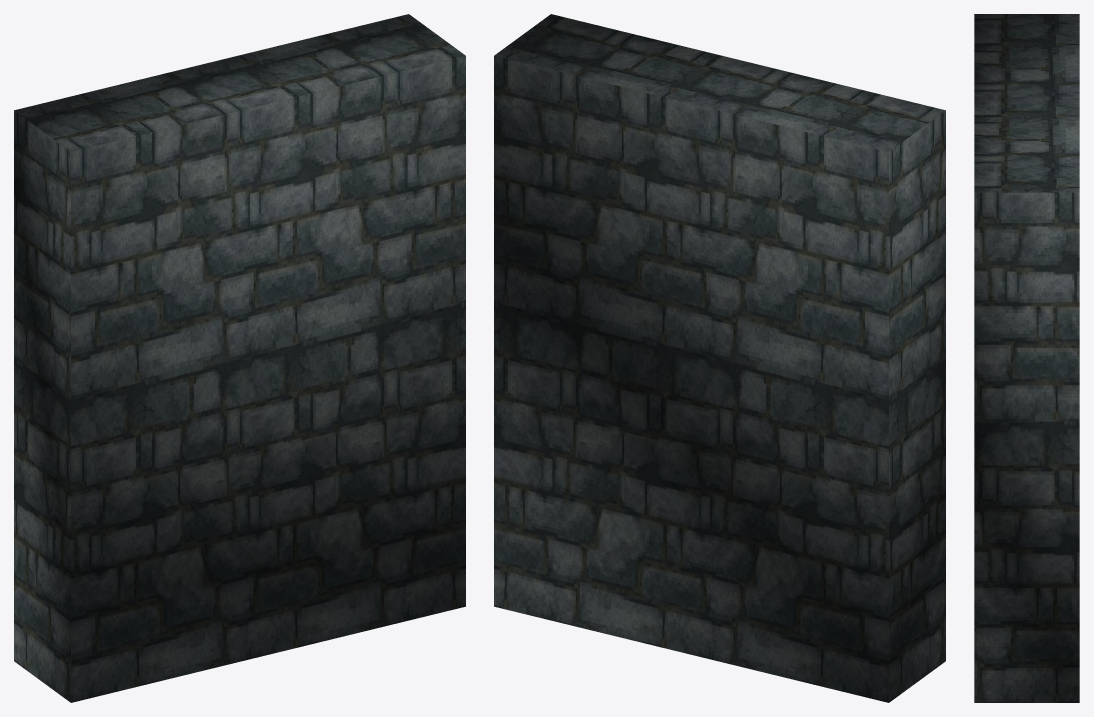
File: dark stone small wall.glb
The picture shows the model from 3 angles, left to right: view 1: azimuth 30°, elevation 25°; view 2: azimuth 150°, elevation 25°; view 3: azimuth 270°, elevation 25°; orthographic projection. The views are drawn at different scales.
Parts seen in each view (by area): view 1: Wall.004; view 2: Wall.004; view 3: Wall.004.
Part boxes in pixels (box(x1,y1,x2,y2)): Wall.004: box(14, 14, 465, 702); Wall.004: box(494, 14, 945, 702); Wall.004: box(974, 14, 1079, 702).
Bounding box in the file's own units: 1.83 × 2.44 × 0.4572.
Materials: 1 (1 with a texture image).
